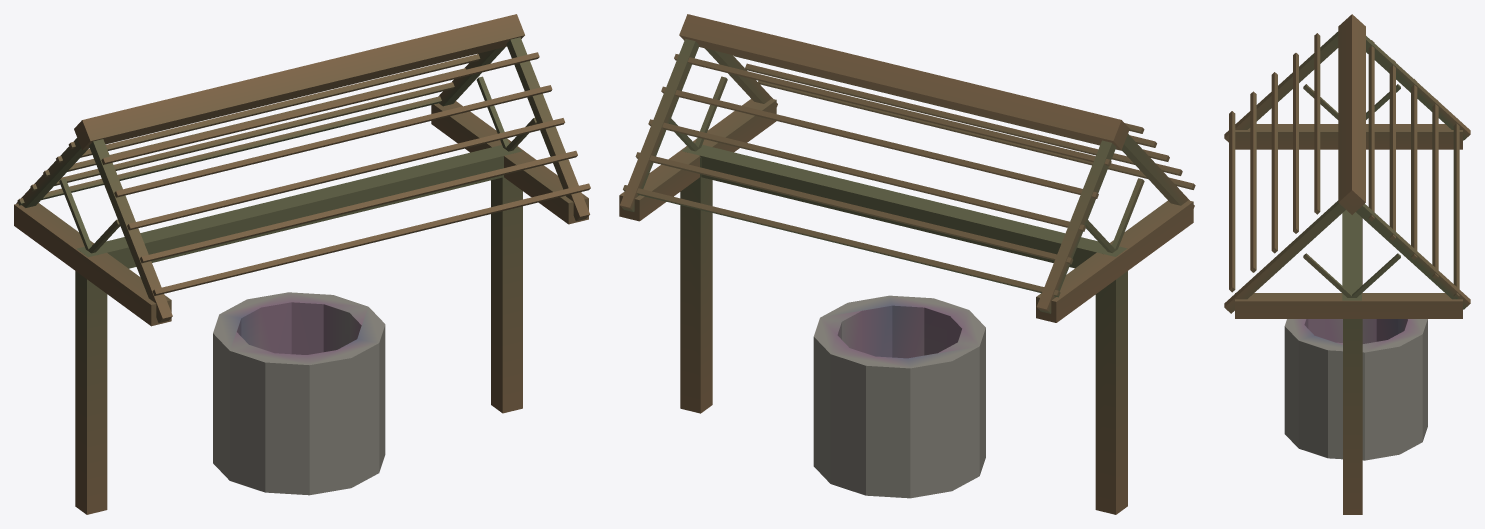
The picture shows the model from 3 angles, left to right: view 1: azimuth 30°, elevation 25°; view 2: azimuth 150°, elevation 25°; view 3: azimuth 270°, elevation 25°; orthographic projection. The views are drawn at different scales.
Parts seen in each view (by area): view 1: stone_wall, ridge, tie, post, post.001, end_beam, end_beam.001, roof_batten.005, roof_batten.001, roof_batten.009, roof_batten.003, roof_batten.007 (+8 smaller); view 2: stone_wall, ridge, tie, post, post.001, end_beam, end_beam.001, roof_batten.006, roof_batten.008, roof_batten.002, roof_batten.004, roof_batten (+7 smaller); view 3: stone_wall, end_beam.001, ridge, post.001, end_beam, rafter.002, rafter.003, tie, rafter.001, rafter, roof_batten.003, roof_batten.001 (+10 smaller).
Part boxes in pixels (<box>): stone_wall: <box>213,292,385,495</box>; ridge: <box>74,14,524,149</box>; tie: <box>76,143,522,268</box>; post: <box>75,271,107,514</box>; post.001: <box>491,177,522,413</box>; end_beam: <box>14,203,171,326</box>; end_beam.001: <box>431,101,588,224</box>; roof_batten.005: <box>127,118,565,230</box>; roof_batten.001: <box>152,183,590,295</box>; roof_batten.009: <box>101,52,539,164</box>; roof_batten.003: <box>140,150,577,263</box>; roof_batten.007: <box>114,85,552,197</box>; stone_wall: <box>813,295,985,498</box>; ridge: <box>679,14,1129,149</box>; tie: <box>682,142,1127,268</box>; post: <box>1095,271,1127,514</box>; post.001: <box>680,157,712,413</box>; end_beam: <box>1036,200,1193,322</box>; end_beam.001: <box>619,98,776,221</box>; roof_batten.006: <box>661,86,1098,198</box>; roof_batten.008: <box>674,54,1111,166</box>; roof_batten.002: <box>635,152,1073,264</box>; roof_batten.004: <box>648,119,1085,231</box>; roof_batten: <box>623,185,1060,297</box>; stone_wall: <box>1284,319,1427,460</box>; end_beam.001: <box>1235,293,1462,318</box>; ridge: <box>1338,14,1365,214</box>; post.001: <box>1343,319,1362,514</box>; end_beam: <box>1235,124,1462,149</box>; rafter.002: <box>1224,200,1345,313</box>; rafter.003: <box>1356,204,1470,309</box>; tie: <box>1342,210,1361,300</box>; rafter.001: <box>1366,36,1470,140</box>; rafter: <box>1224,31,1338,142</box>; roof_batten.003: <box>1250,91,1256,272</box>; roof_batten.001: <box>1229,111,1235,292</box>.
Size of the model in its own units: 0.602 by 0.5181 by 0.3534.
